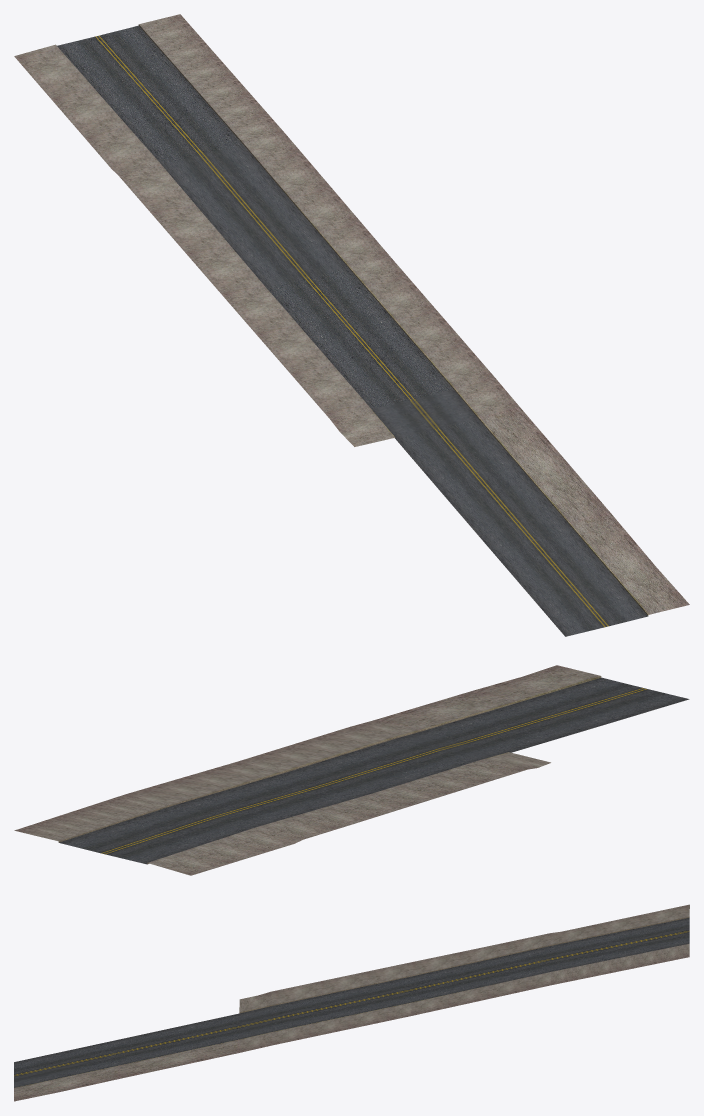
The model's file is lae2_roads56.obj.
The picture shows the model from 3 angles, top to bottom: view 1: azimuth 30°, elevation 25°; view 2: azimuth 150°, elevation 25°; view 3: azimuth 270°, elevation 25°; orthographic projection. The views are drawn at different scales.
Visible parts, largest first — view 1: Lae2_roads56; view 2: Lae2_roads56; view 3: Lae2_roads56.
Part boxes in pixels (x1,y1,x2,y2): Lae2_roads56: [14, 14, 689, 636]; Lae2_roads56: [14, 665, 689, 875]; Lae2_roads56: [14, 904, 689, 1101].
Size of the model in its own units: 20.02 by 25.23 by 106.
